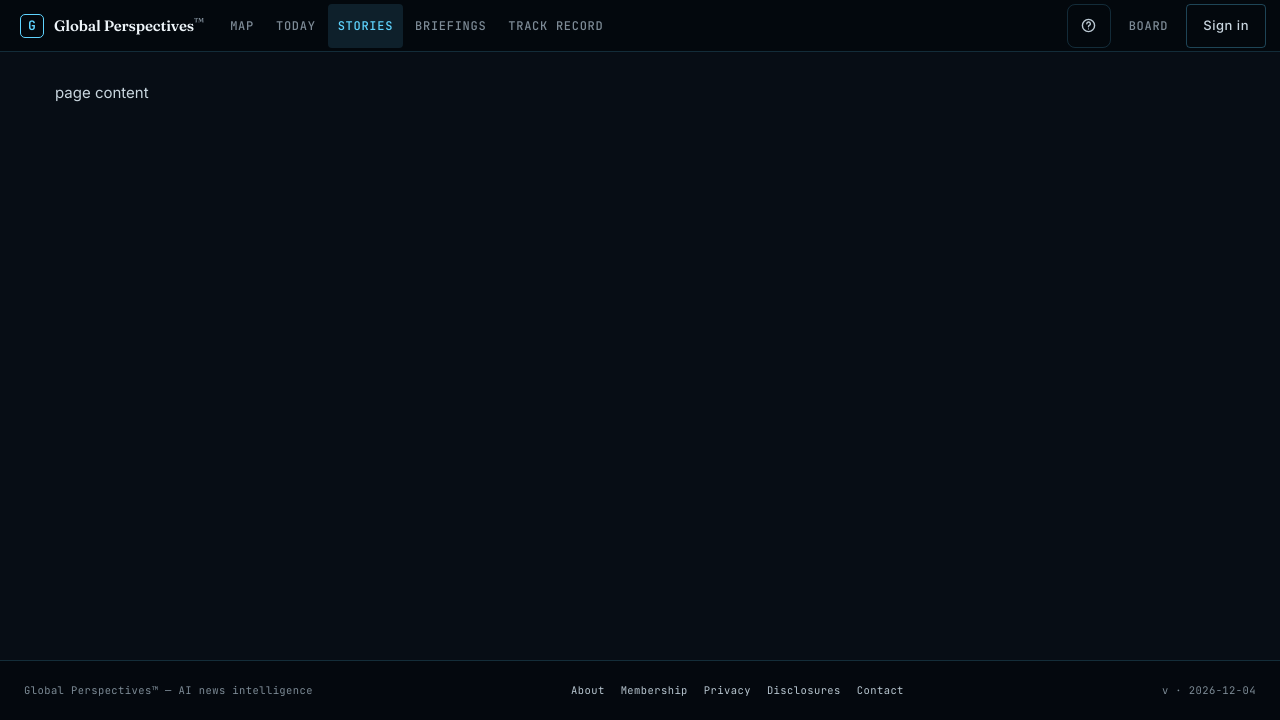
Layout — R4a desktop / (map home) console shell › "?" opens "How this site works" over the page (R7): no route change, no sentence, Esc closes and focus returns
Click the link with class "gp-help" at {"x": 1089, "y": 26}, box [1067,4,1111,48]
(page scrolled)
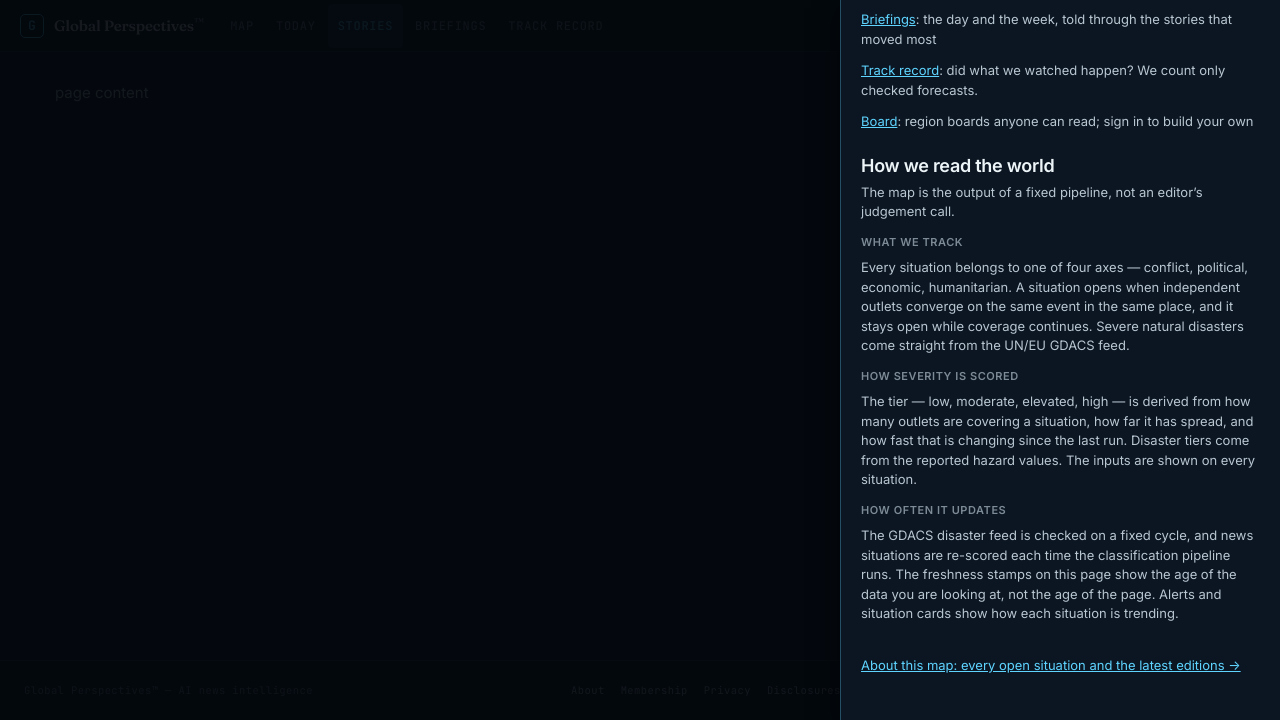
Expected: the dialog "How this site works" does not show "We follow the world’s stories", [840,0,1279,719]
Expected: the dialog "How this site works" shows "How we read the world", [861,155,1054,176]
Press Escape
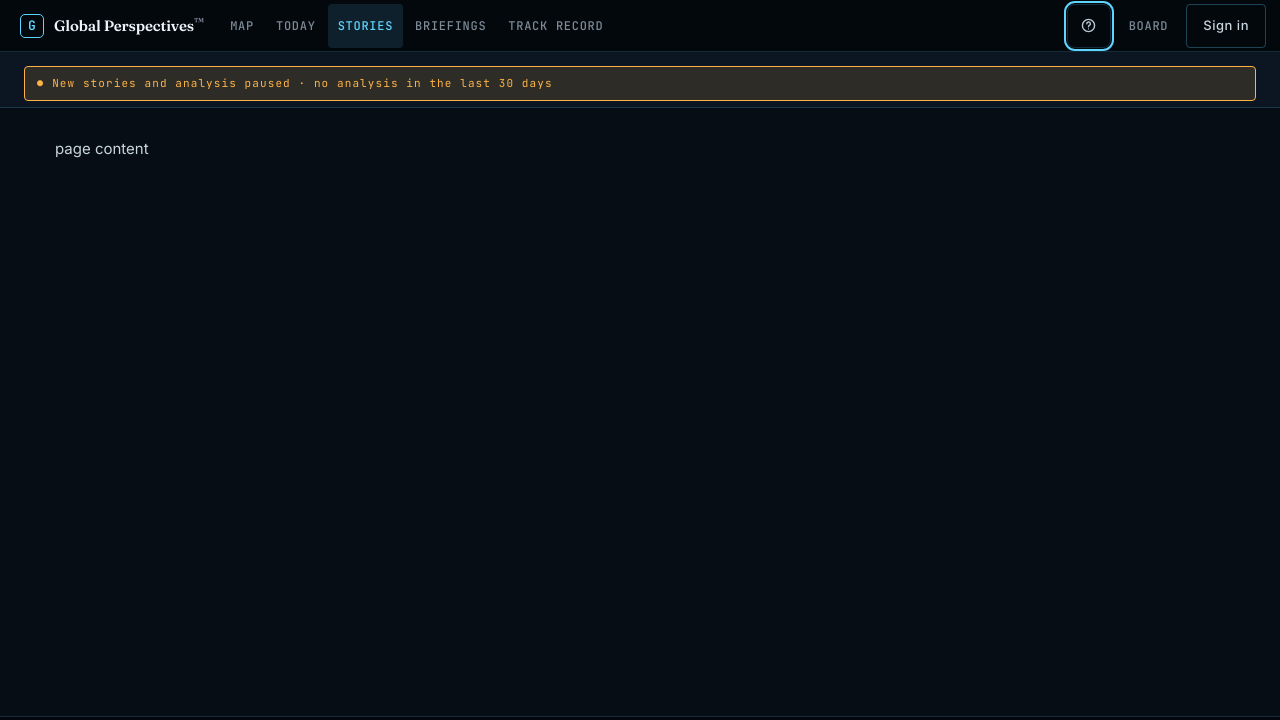
Expected: the dialog is gone
